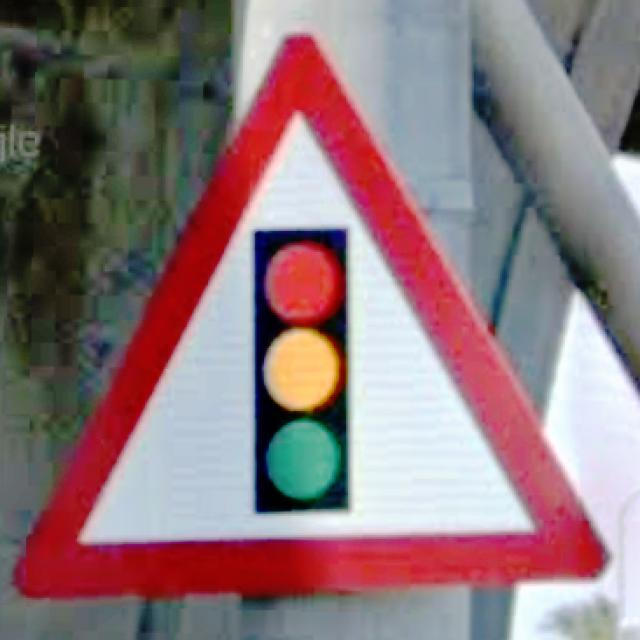signalahead: (17, 30, 614, 600)
